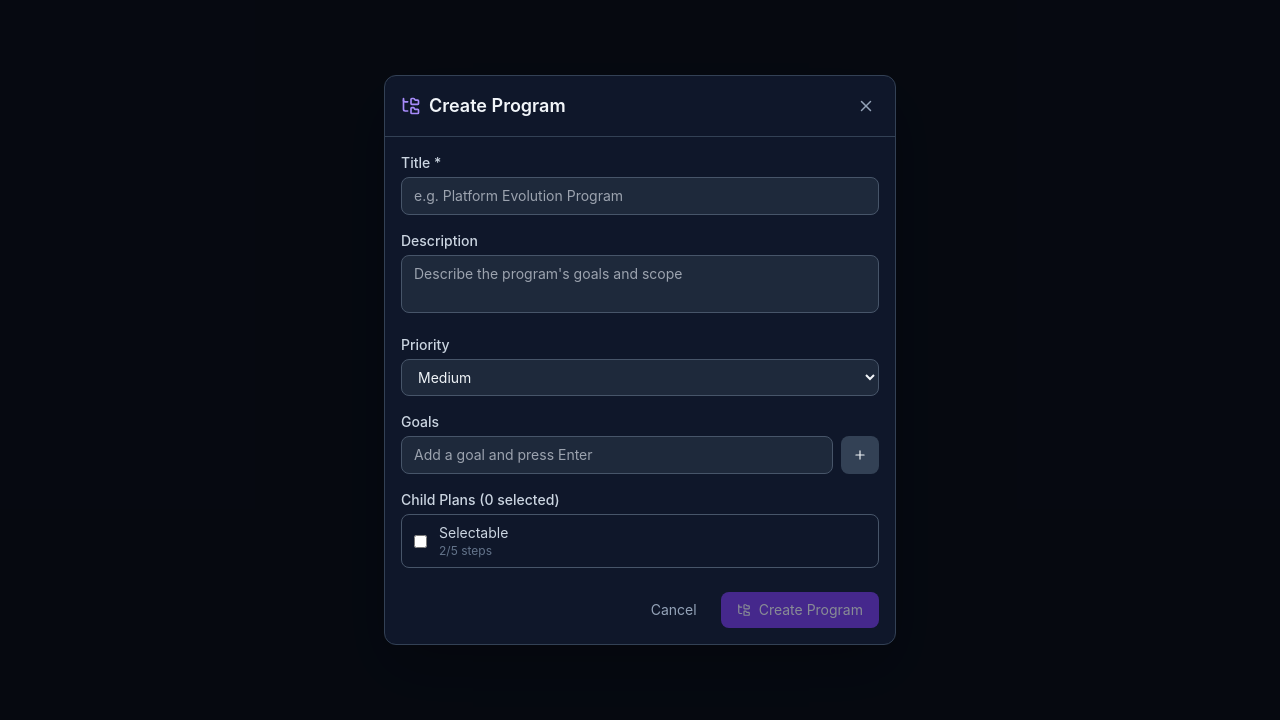
it: ProgramCreateForm › child plan selection › toggling checkbox updates selected count
This screenshot has width=1280, height=720.
Expected: the text "Child Plans (0 selected)" is shown, [401,491,560,508]
// Click the checkbox
Click the checkbox: (420, 541) [414,534,427,548]
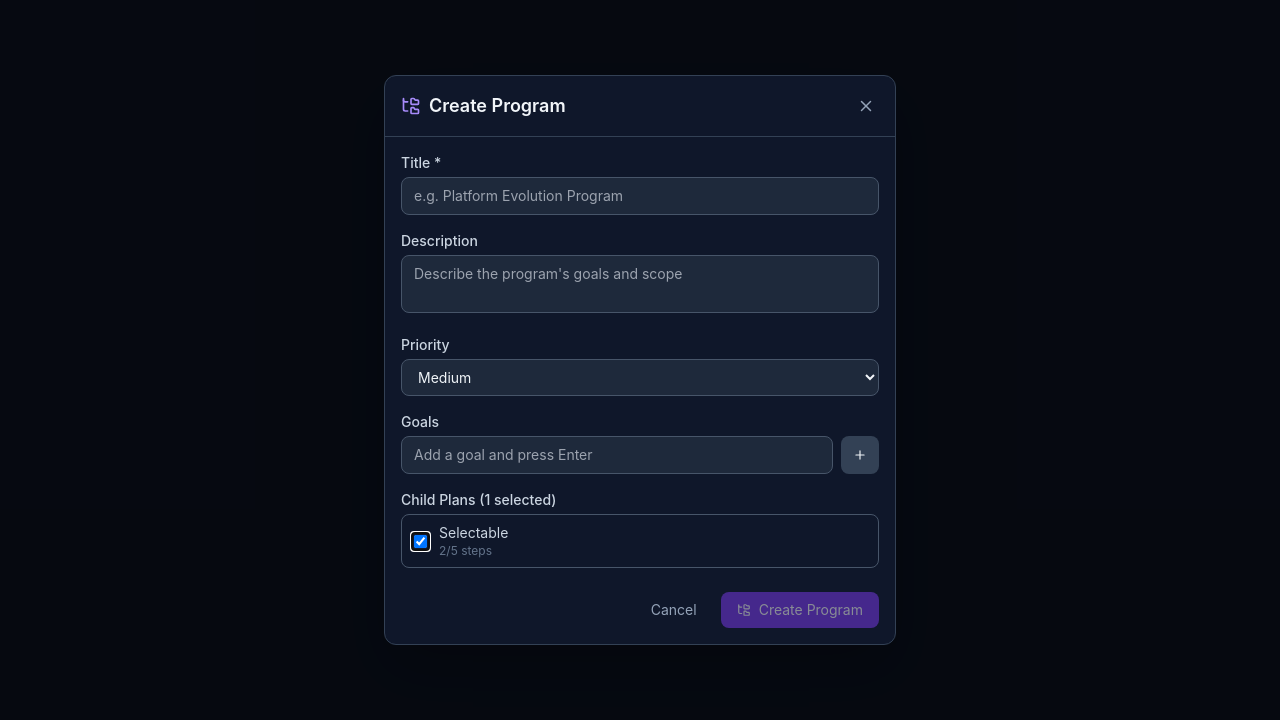
Expected: the text "Child Plans (1 selected)" is shown, [401,491,556,508]
